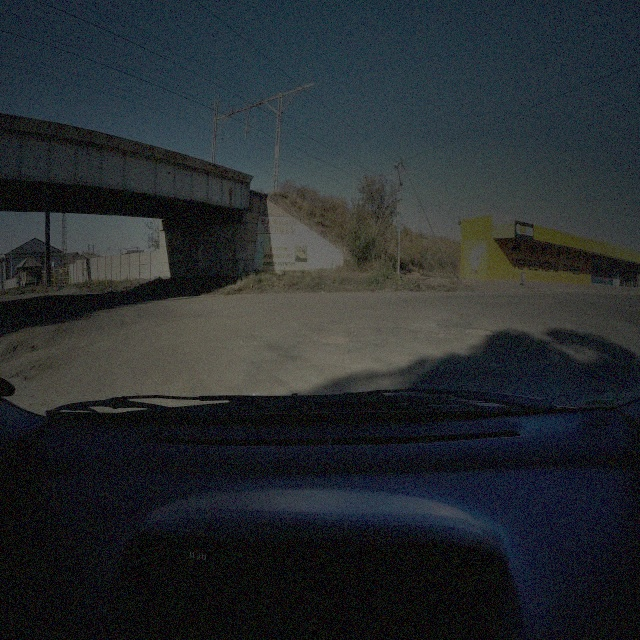pothole: (464, 325, 494, 337), (320, 335, 353, 344)
